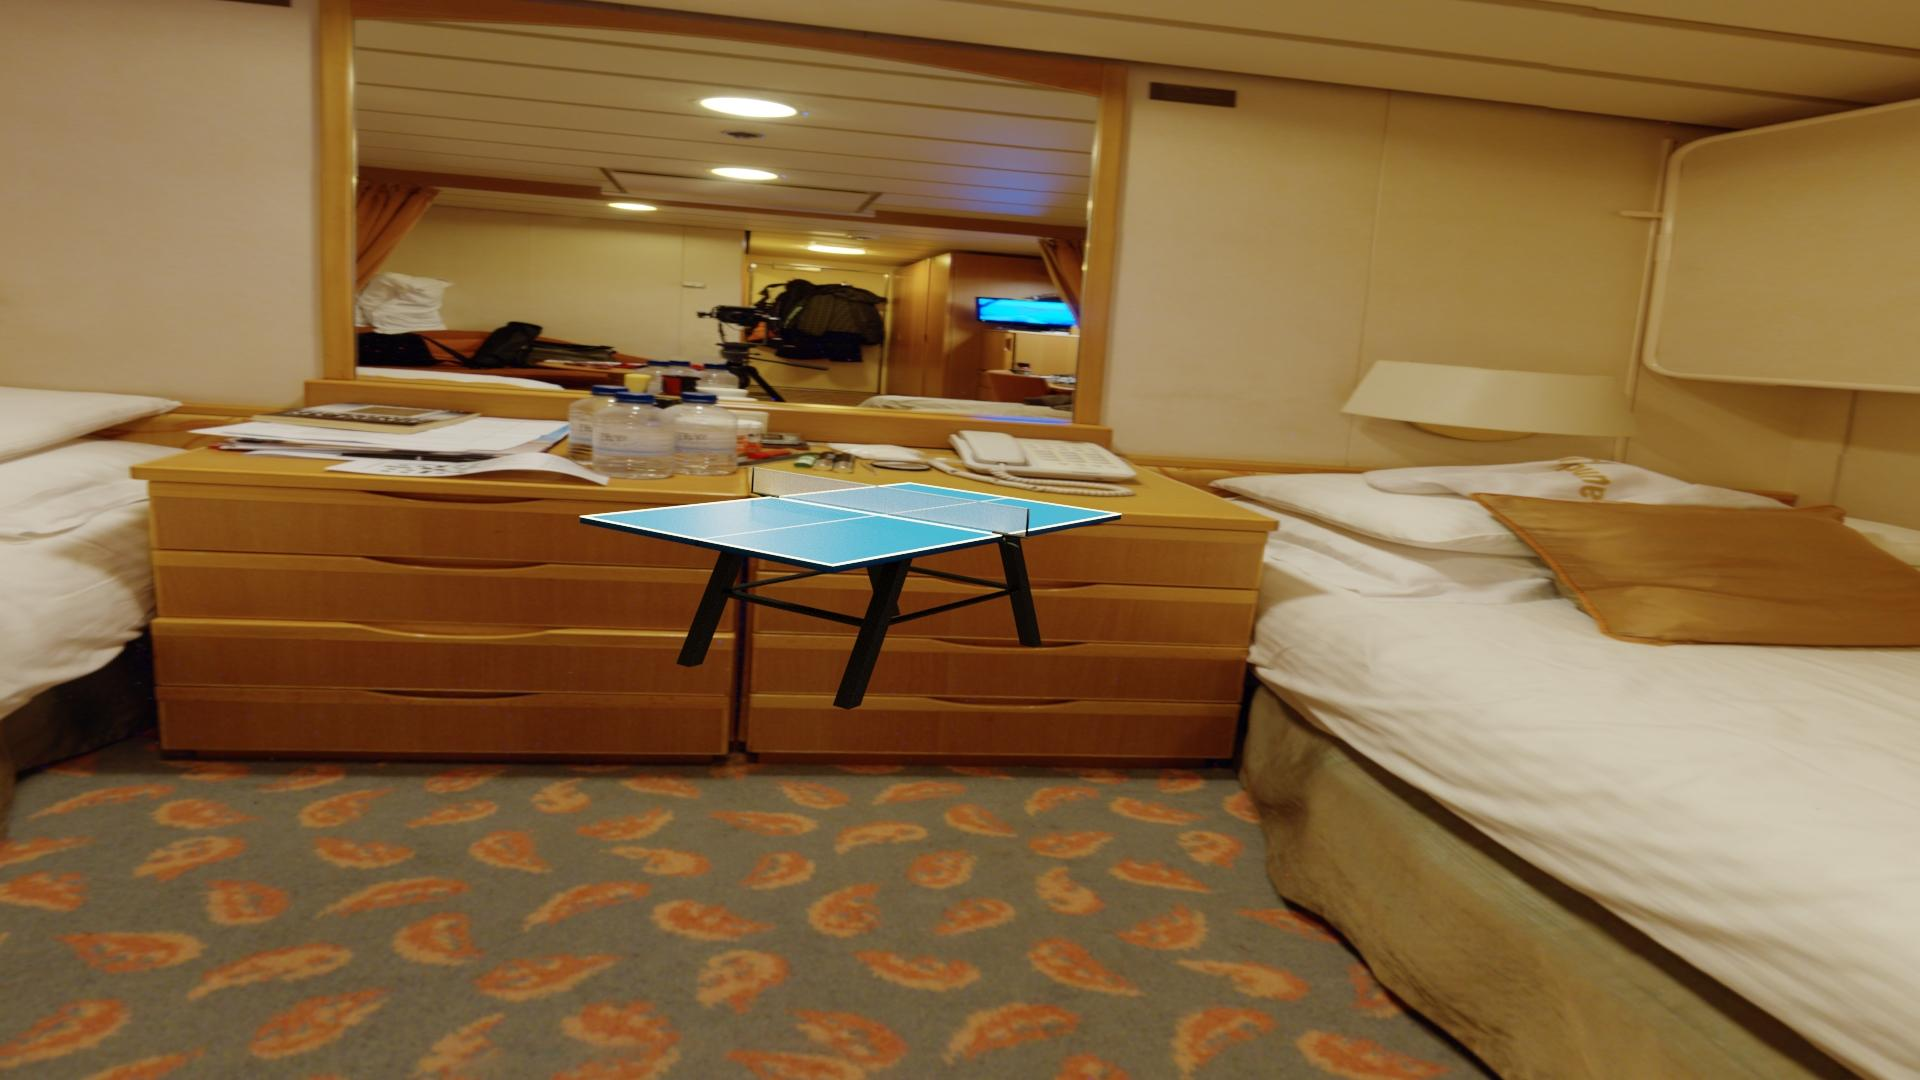table: (585, 484, 1117, 564)
